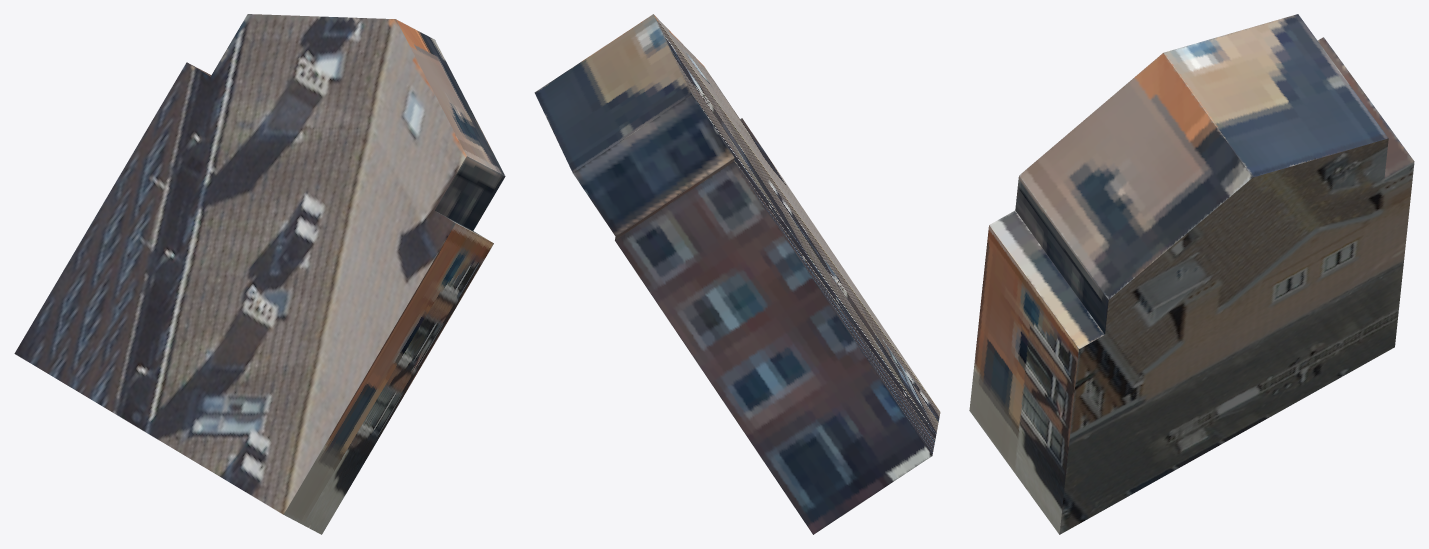
3 renders of one model, left to right at view 1: azimuth 30°, elevation 25°; view 2: azimuth 150°, elevation 25°; view 3: azimuth 270°, elevation 25°, orthographic. The views are drawn at different scales.
Parts seen in each view (by area): view 1: BAG_0599100000650059 (×2); view 2: BAG_0599100000650059 (×2); view 3: BAG_0599100000650059 (×3).
Boxes of the visible parts, x1,y1,x2,y2 form: BAG_0599100000650059 (×2): [14, 14, 505, 534]; BAG_0599100000650059 (×2): [534, 14, 940, 534]; BAG_0599100000650059 (×3): [969, 14, 1414, 534].
Bounding box in the file's own units: 17.45 × 18.52 × 13.55.
Materials: 1 (1 with a texture image).
